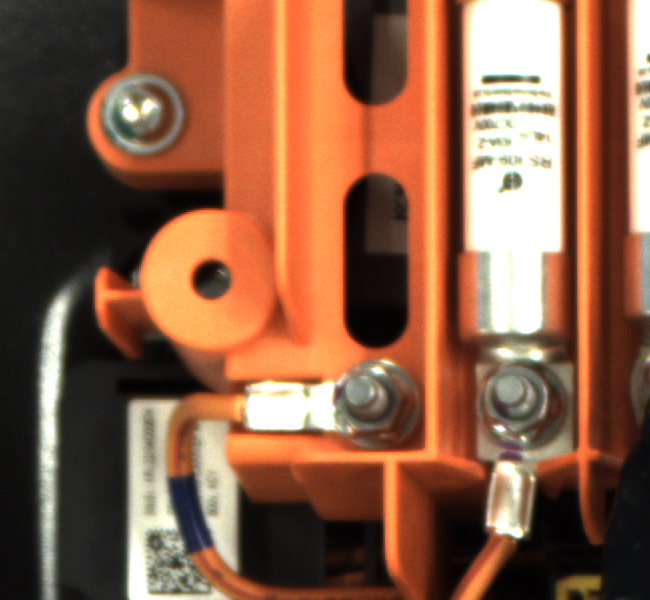screw_m: (93, 66, 196, 165)
screw_s: (464, 359, 565, 453), (322, 355, 426, 440)
